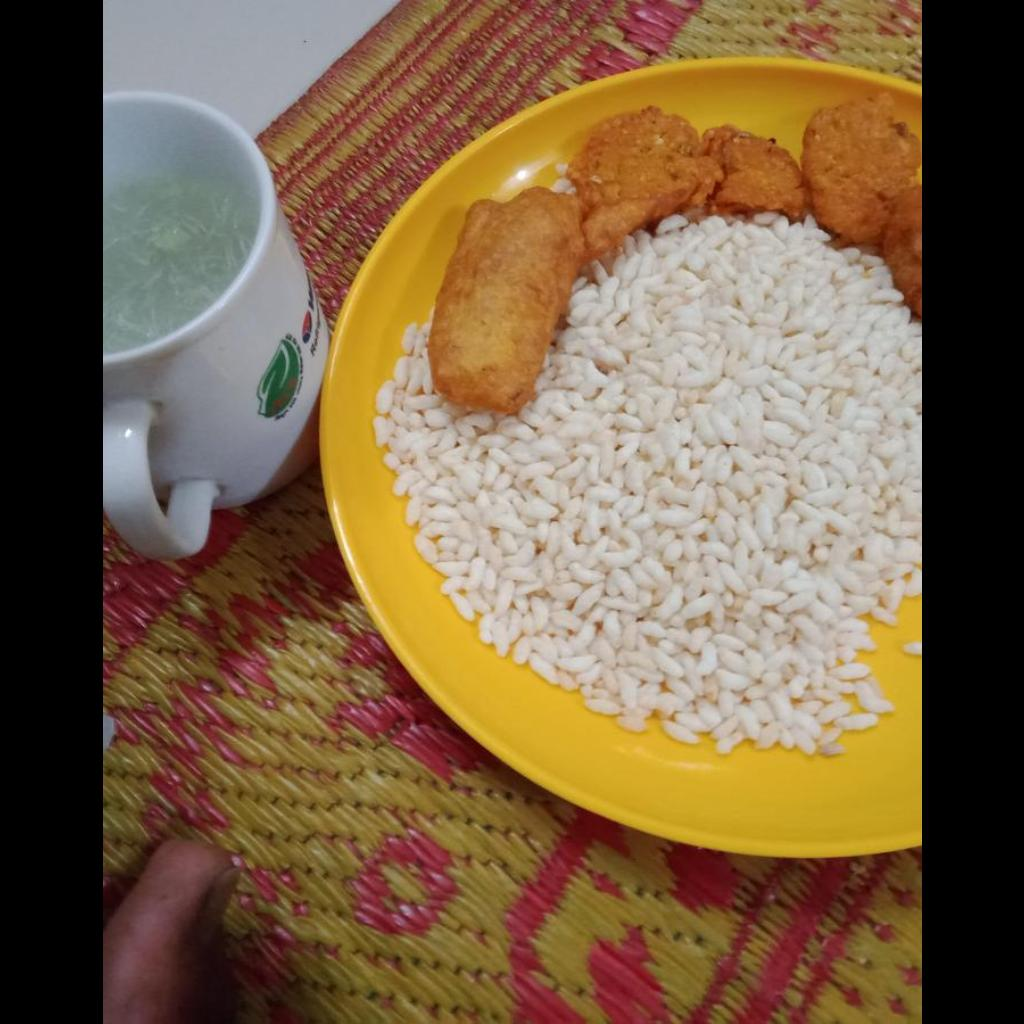beguni: (427, 188, 588, 412)
chop-alu: (801, 96, 920, 319)
juice: (102, 173, 256, 355)
peyaju: (569, 98, 806, 264)
puffed-rice: (375, 215, 920, 752)
